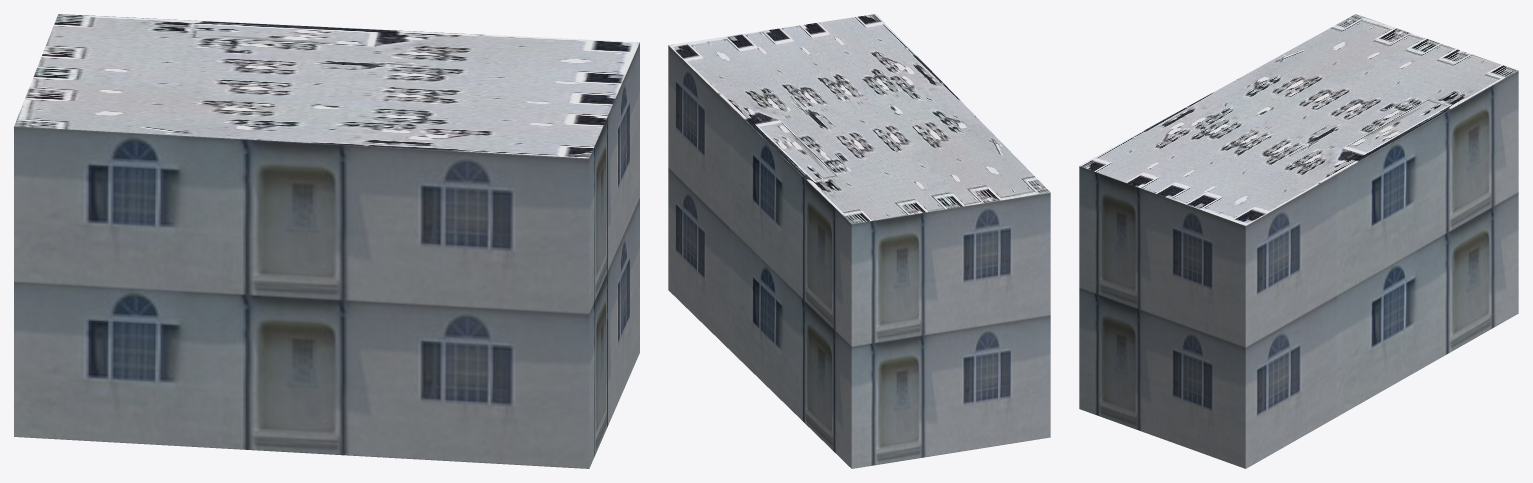
The model's file is ResTex__277.fbx.
The picture shows the model from 3 angles, left to right: view 1: azimuth 30°, elevation 25°; view 2: azimuth 150°, elevation 25°; view 3: azimuth 270°, elevation 25°; orthographic projection. The views are drawn at different scales.
Parts seen in each view (by area): view 1: CityEngineMaterial_17_m, CityEngineMaterial_4_m; view 2: CityEngineMaterial_17_m, CityEngineMaterial_4_m; view 3: CityEngineMaterial_17_m, CityEngineMaterial_4_m.
Boxes of the visible parts, left/top/right/bottom form: CityEngineMaterial_17_m: left=14, top=43, right=639, bottom=468; CityEngineMaterial_4_m: left=14, top=14, right=639, bottom=158; CityEngineMaterial_17_m: left=668, top=45, right=1050, bottom=468; CityEngineMaterial_4_m: left=668, top=14, right=1050, bottom=223; CityEngineMaterial_17_m: left=1079, top=71, right=1518, bottom=468; CityEngineMaterial_4_m: left=1079, top=14, right=1518, bottom=225.
Size of the model in its own units: 11.24 by 6 by 9.84.
Materials: 2 (2 with a texture image).
